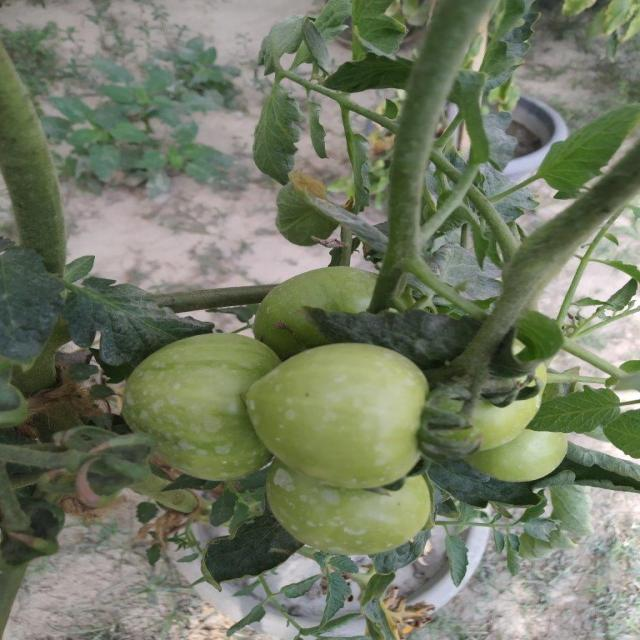Unripe: (243, 343, 432, 489)
